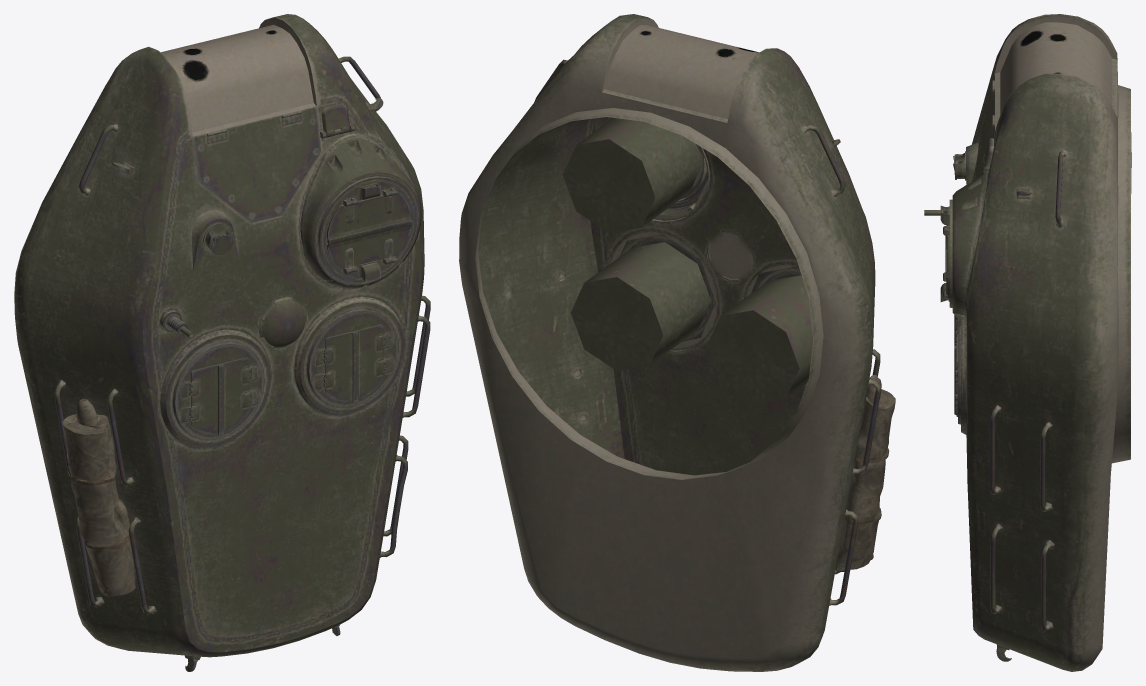
The model's file is Turret_02.glb.
3 views of the same model, side by side, from view 1: azimuth 30°, elevation 25°; view 2: azimuth 150°, elevation 25°; view 3: azimuth 270°, elevation 25° (orthographic). The views are drawn at different scales.
Parts seen in each view (by area): view 1: set_0_group_0; view 2: set_0_group_0; view 3: set_0_group_0.
Boxes of the visible parts, bbox=[...] form: set_0_group_0: bbox=[14, 14, 430, 671]; set_0_group_0: bbox=[459, 14, 895, 671]; set_0_group_0: bbox=[924, 14, 1131, 671].
Bounding box in the file's own units: 2.72 × 3.97 × 1.27.
1 material, 1 textured.
